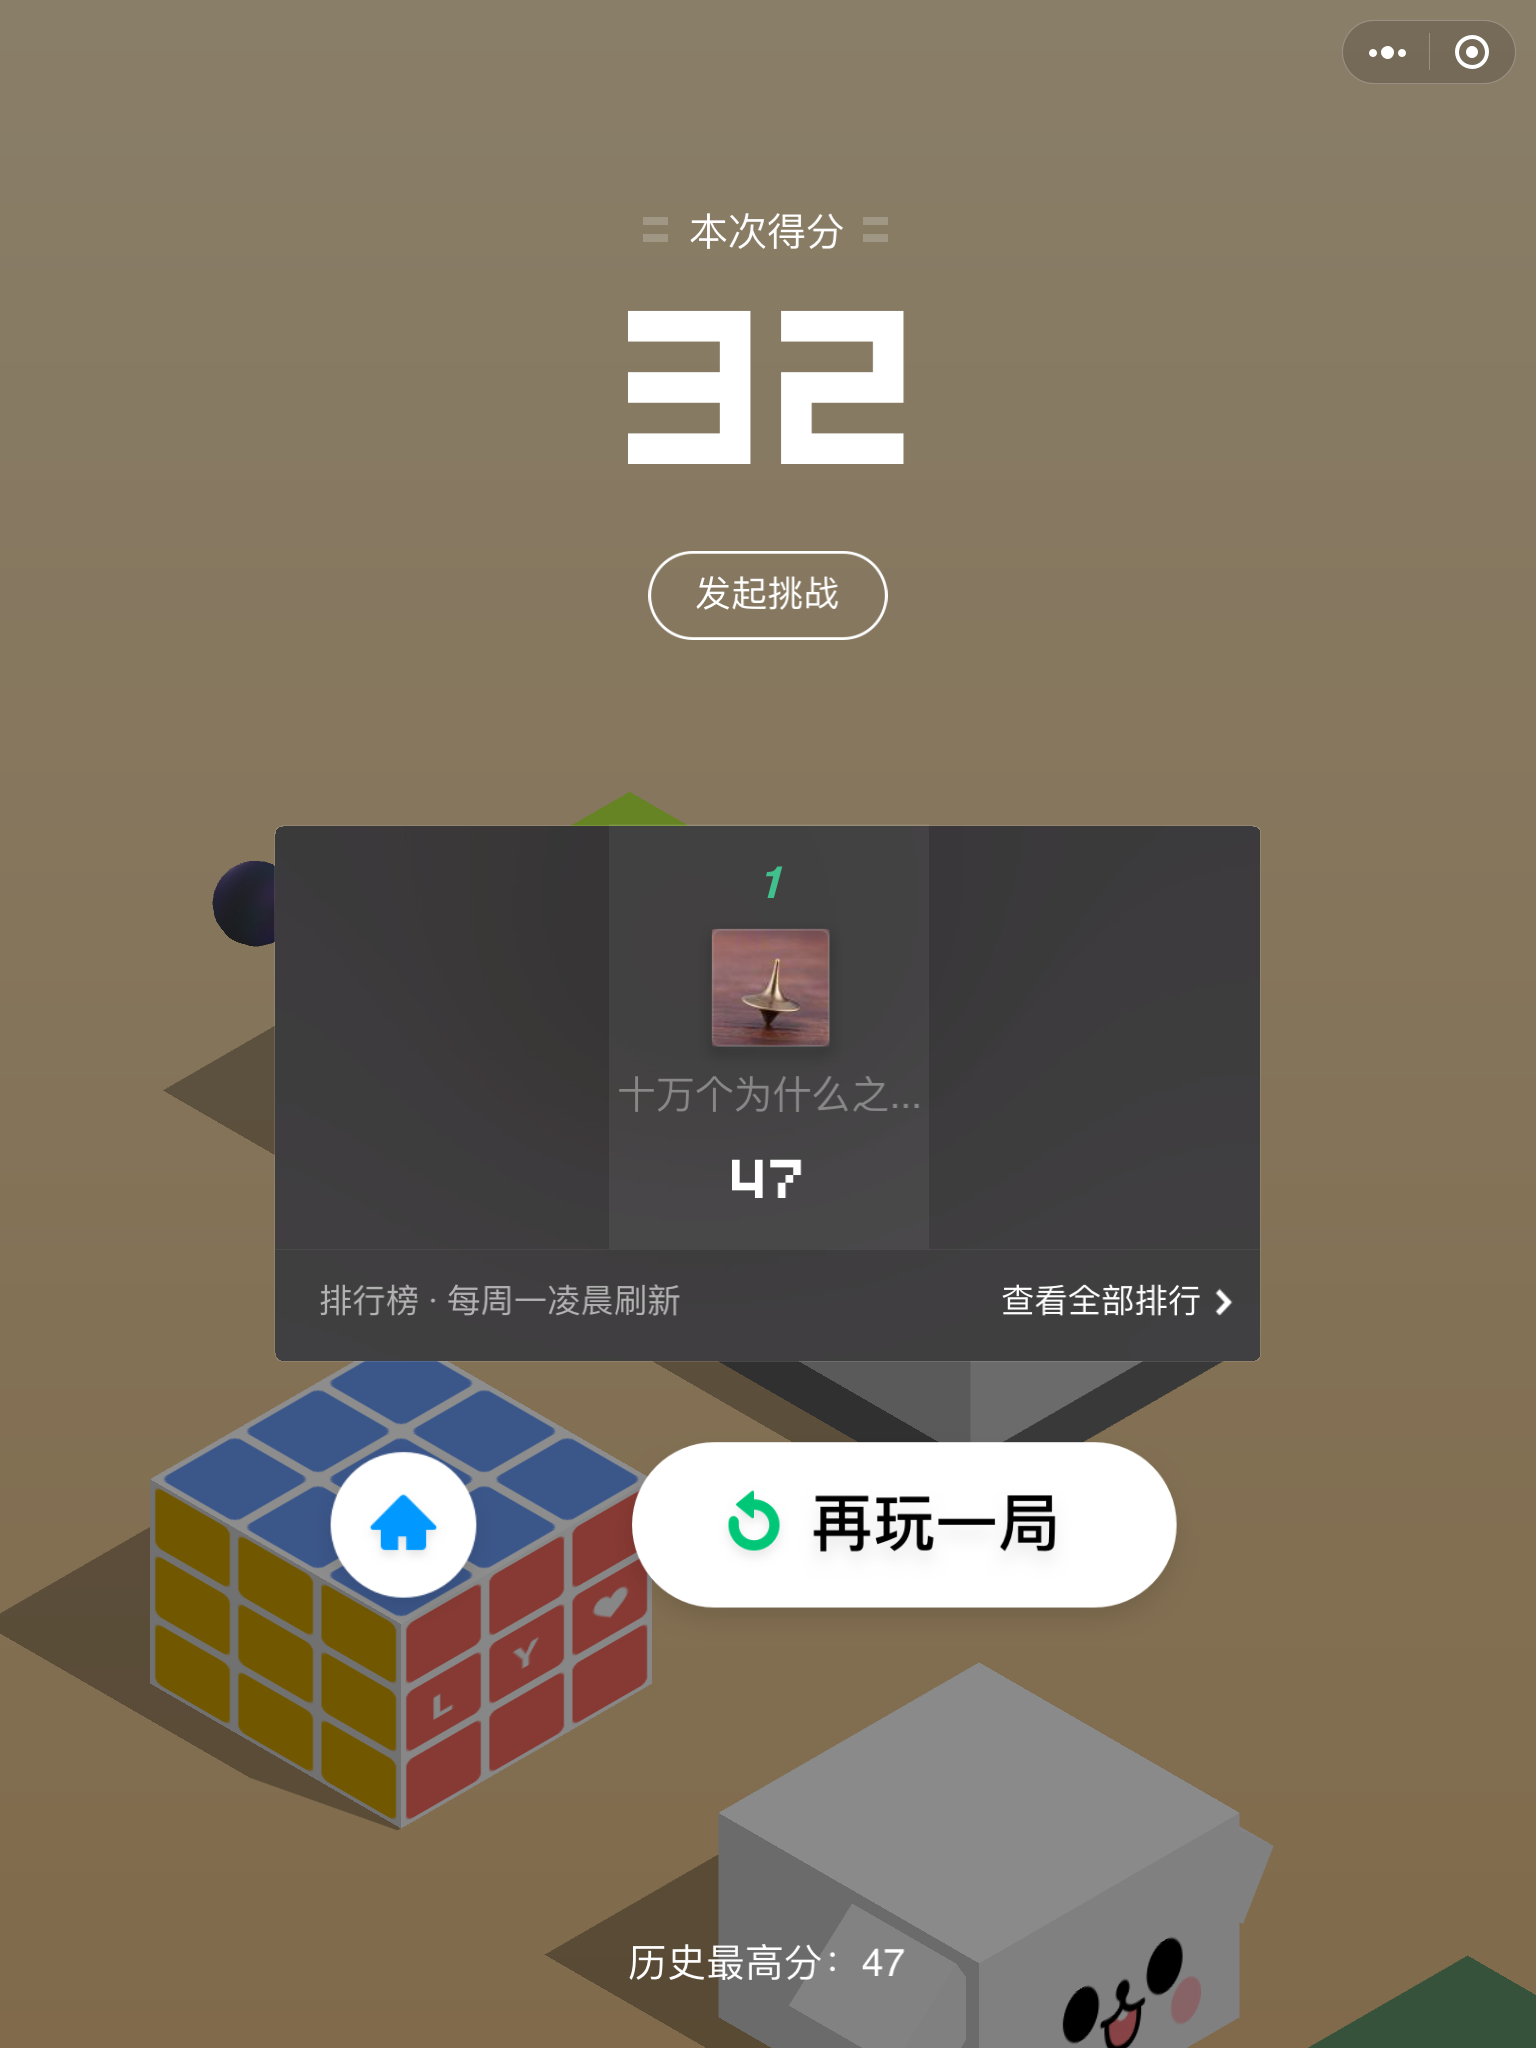f: (152, 1342, 653, 1834), (718, 1659, 1276, 2048)
s: (628, 1432, 1189, 1621)
